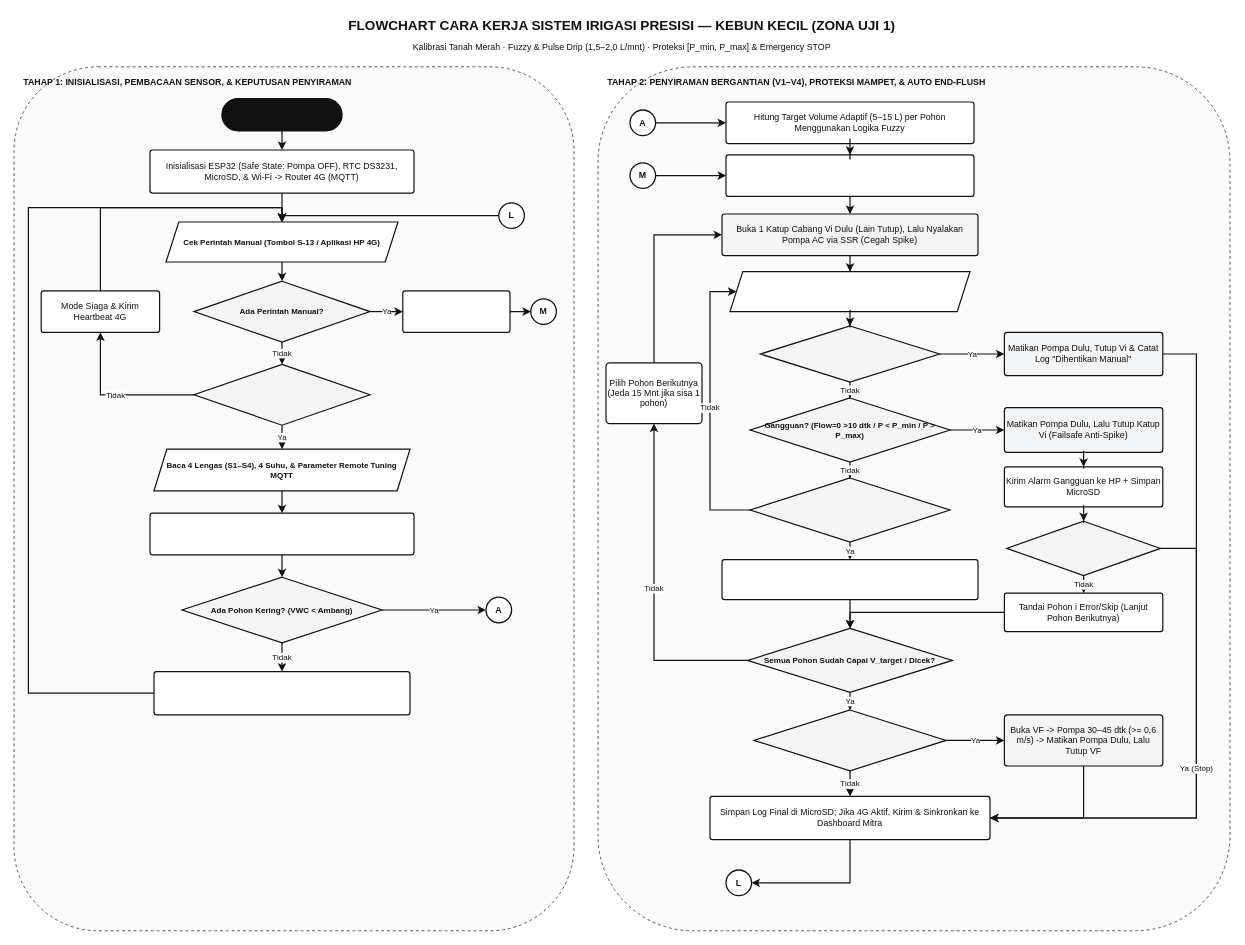
Some shapes in this 1245 by 945 pixel diagram are drawn without their labels. The shapes that lost their labels are listed below. From the top down, each one's centre as x and y in pixels, then its label:
point 281,114: MULAI
point 849,175: Susun Antrean Pohon (i = 1..4) & Kuota Pulse Drip (5 L/putaran · 1,5–2 L/mnt)
point 456,311: Set Target Manual Aman (<= 15 L)
point 849,291: Baca 1 Flow Sensor Induk, Tekanan P, & Cek Tombol STOP (S-13 / App)
point 849,353: Perintah STOP? (Tombol S-13 / App)
point 281,394: Jadwal Cek RTC Sudah Tiba?
point 849,509: Volume Sesi >= Kuota Pulse atau Sisa V_target(i)?
point 281,533: Konversi ADC -> % VWC Tanah Merah (VWC = m·ADC + c, Moving Avg 10x)
point 1083,548: Dry-Run / P < P_min?
point 849,579: Matikan Pompa, Tutup Katup Vi, & Perbarui Total Liter Terkirim Pohon i
point 281,693: Simpan Log "Lengas Cukup" di MicroSD & Kirim ke Dashboard 4G (jika online)
point 849,740: Waktunya Bilas Auto End-Flush?
